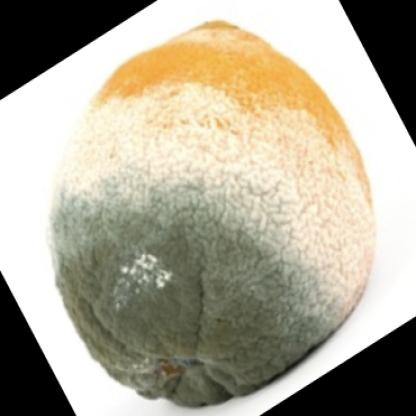rotten: (55, 20, 374, 413)
